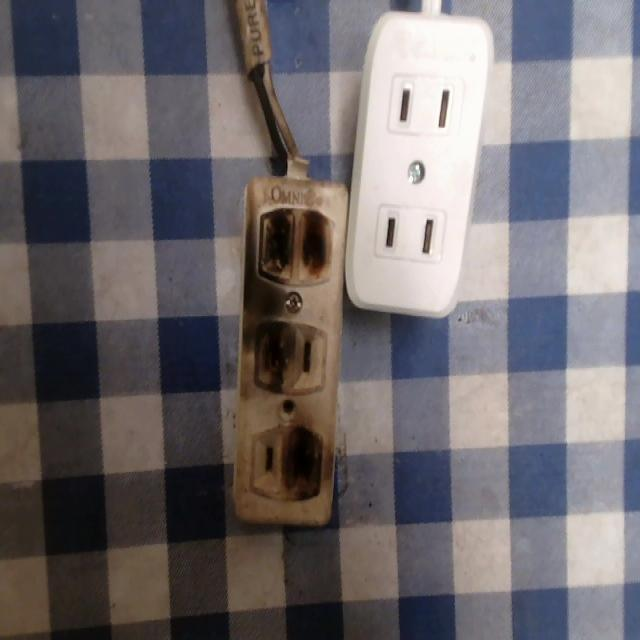-: (257, 200, 340, 297), (280, 424, 328, 507), (247, 314, 296, 394)
